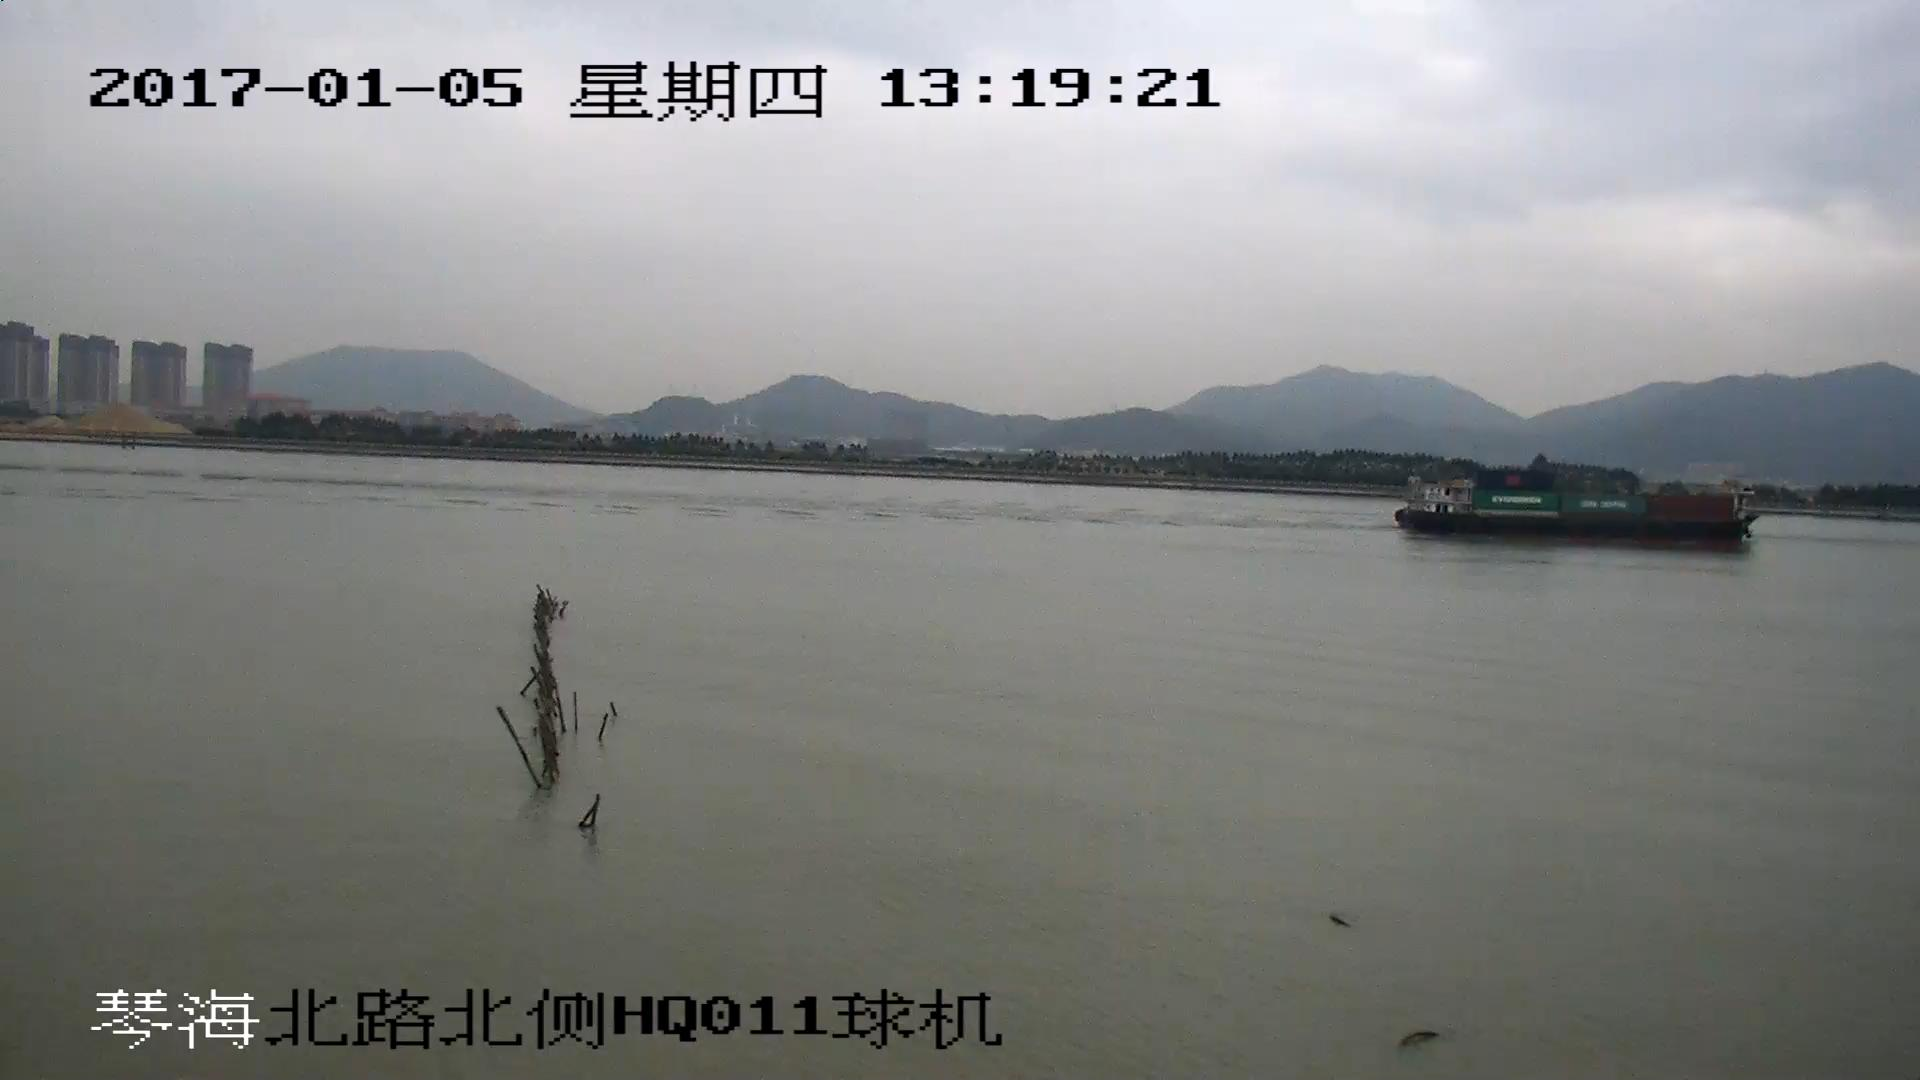container ship: (1393, 466, 1758, 547)
